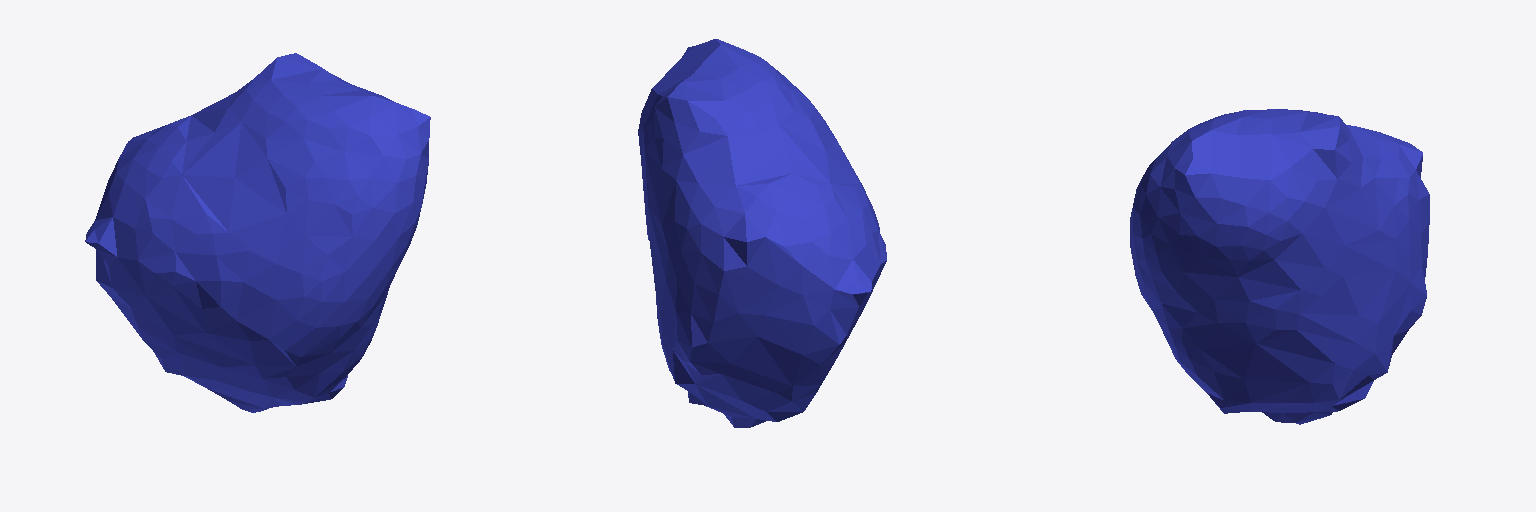
File: Model_178_RH__Anterior_cortical_amygdaloid_nucleus_(ACo).obj
3 views of the same model, side by side, from view 1: azimuth 30°, elevation 25°; view 2: azimuth 150°, elevation 25°; view 3: azimuth 270°, elevation 25° (orthographic).
Size of the model in its own units: 0.9441 by 1.09 by 0.8929.